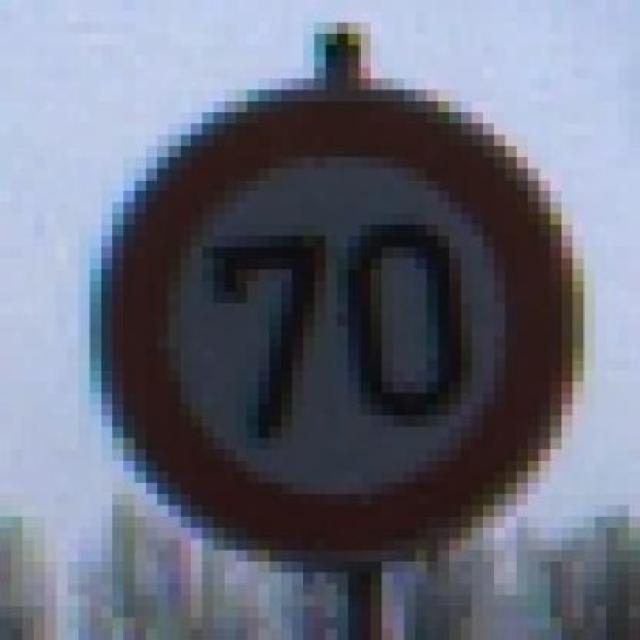forb_speed_over_70: (104, 95, 568, 559)
